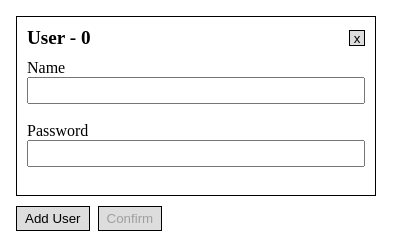
Test: 2. input success test
Type "test" into the field with test id "Name" at (196, 90), box [27,77,365,104]
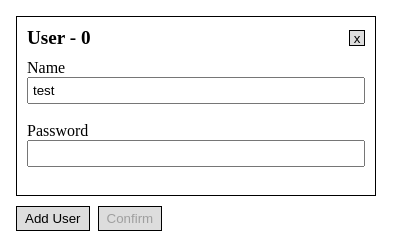
Type "123456" into the field with test id "Password" at (196, 154), box [27,140,365,167]
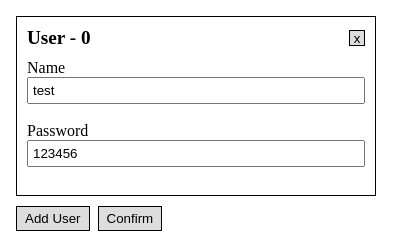
Now the button "Confirm" is enabled, box [98,206,162,231]
